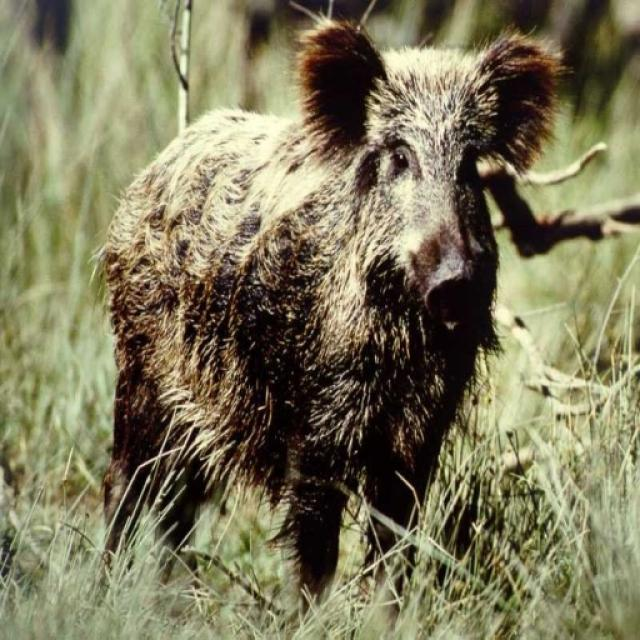pig: (61, 0, 602, 625)
